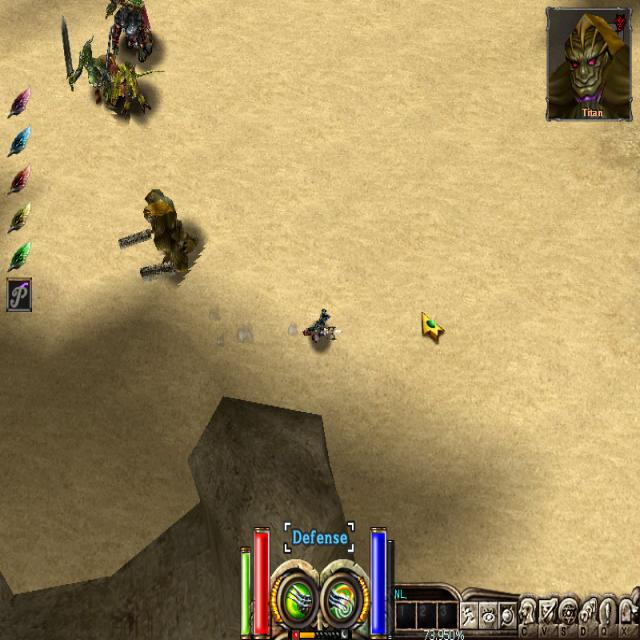monster: (113, 181, 204, 308)
